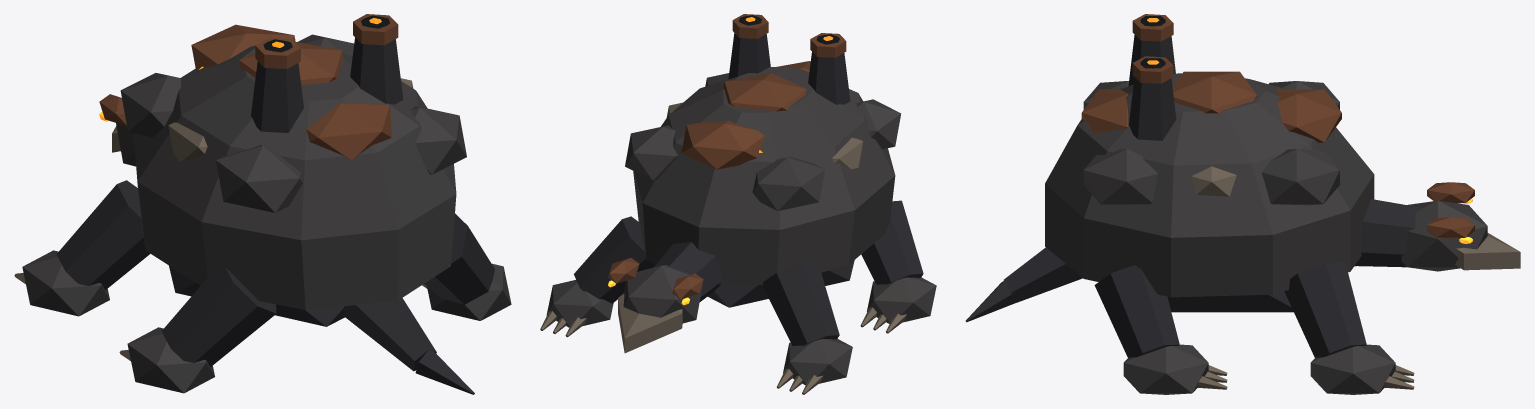
File: furnace_tortoise.glb
3 views of the same model, side by side, from view 1: azimuth 30°, elevation 25°; view 2: azimuth 150°, elevation 25°; view 3: azimuth 270°, elevation 25° (orthographic). The views are drawn at different scales.
Parts seen in each view (by area): view 1: furnace_tortoise_AnimatedMesh; view 2: furnace_tortoise_AnimatedMesh; view 3: furnace_tortoise_AnimatedMesh.
Boxes of the visible parts, x1,y1,x2,y2 form: furnace_tortoise_AnimatedMesh: (14, 14, 511, 394); furnace_tortoise_AnimatedMesh: (540, 14, 936, 394); furnace_tortoise_AnimatedMesh: (965, 14, 1520, 394).
Size of the model in its own units: 1.74 by 1.47 by 2.55.
